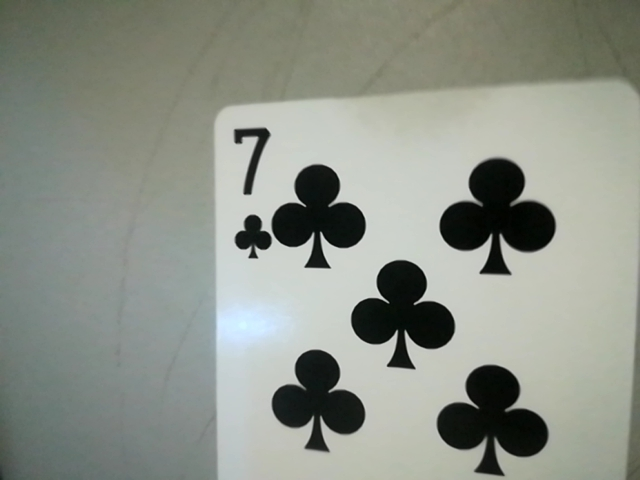mh 7: (216, 115, 276, 264)
